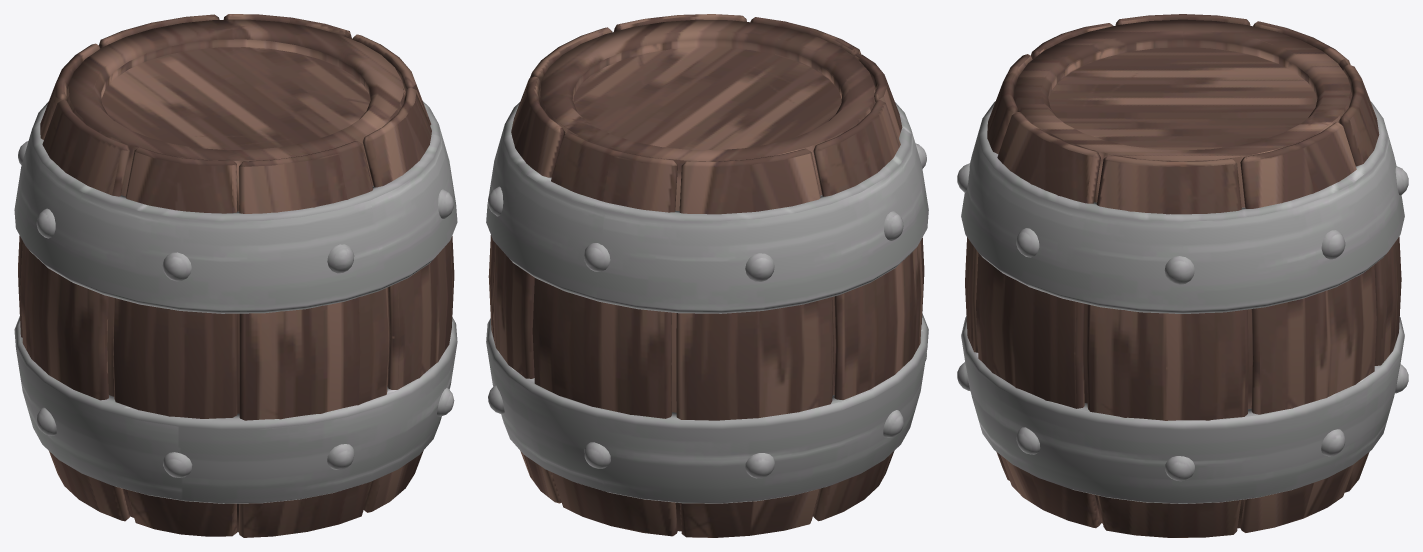
The model's file is SM_barrel.glb.
3 renders of one model, left to right at view 1: azimuth 30°, elevation 25°; view 2: azimuth 150°, elevation 25°; view 3: azimuth 270°, elevation 25°, orthographic.
Parts seen in each view (by area): view 1: SM_barrel; view 2: SM_barrel; view 3: SM_barrel.
Boxes of the visible parts, bbox=[...] form: SM_barrel: bbox=[14, 14, 457, 537]; SM_barrel: bbox=[486, 14, 928, 537]; SM_barrel: bbox=[957, 14, 1408, 537].
Size of the model in its own units: 0.9932 by 0.9125 by 0.9932.
Materials: 2 (2 with a texture image).
